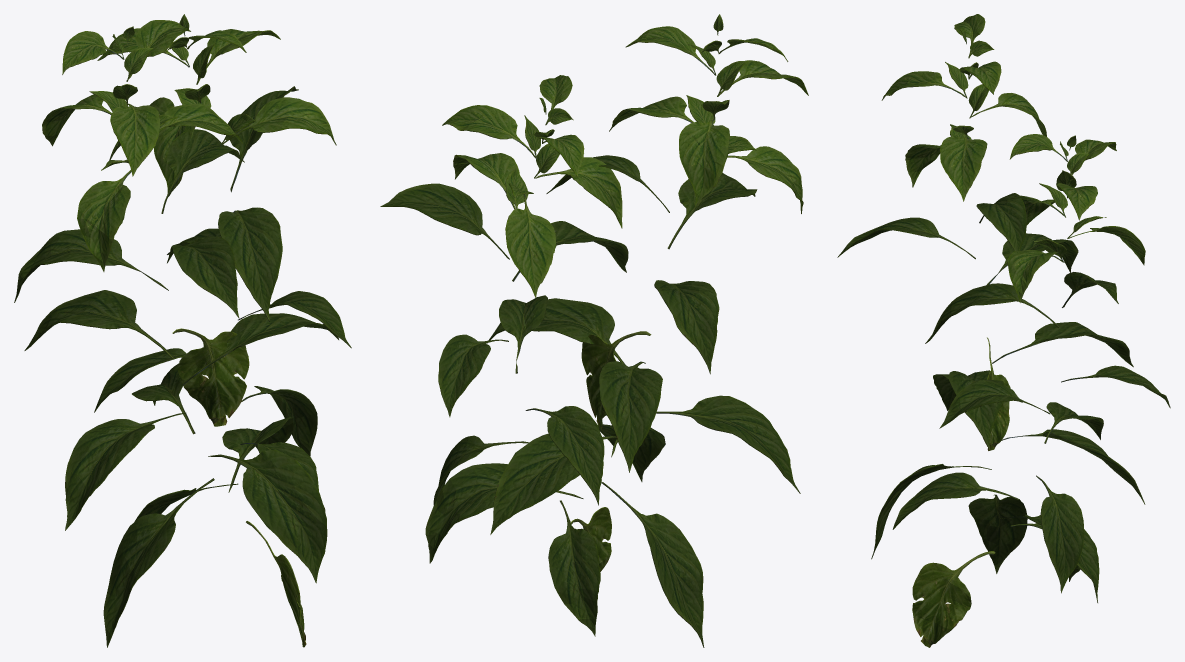
Rendered from VG07_5_leaves.dae.
3 views of the same model, side by side, from view 1: azimuth 30°, elevation 25°; view 2: azimuth 150°, elevation 25°; view 3: azimuth 270°, elevation 25° (orthographic). The views are drawn at different scales.
Parts seen in each view (by area): view 1: VG07_024; view 2: VG07_024; view 3: VG07_024.
Boxes of the visible parts, <box> form: VG07_024: <box>14,14,351,647</box>; VG07_024: <box>380,14,808,647</box>; VG07_024: <box>837,14,1170,647</box>.
Bounding box in the file's own units: 19.81 × 19.92 × 36.6.
